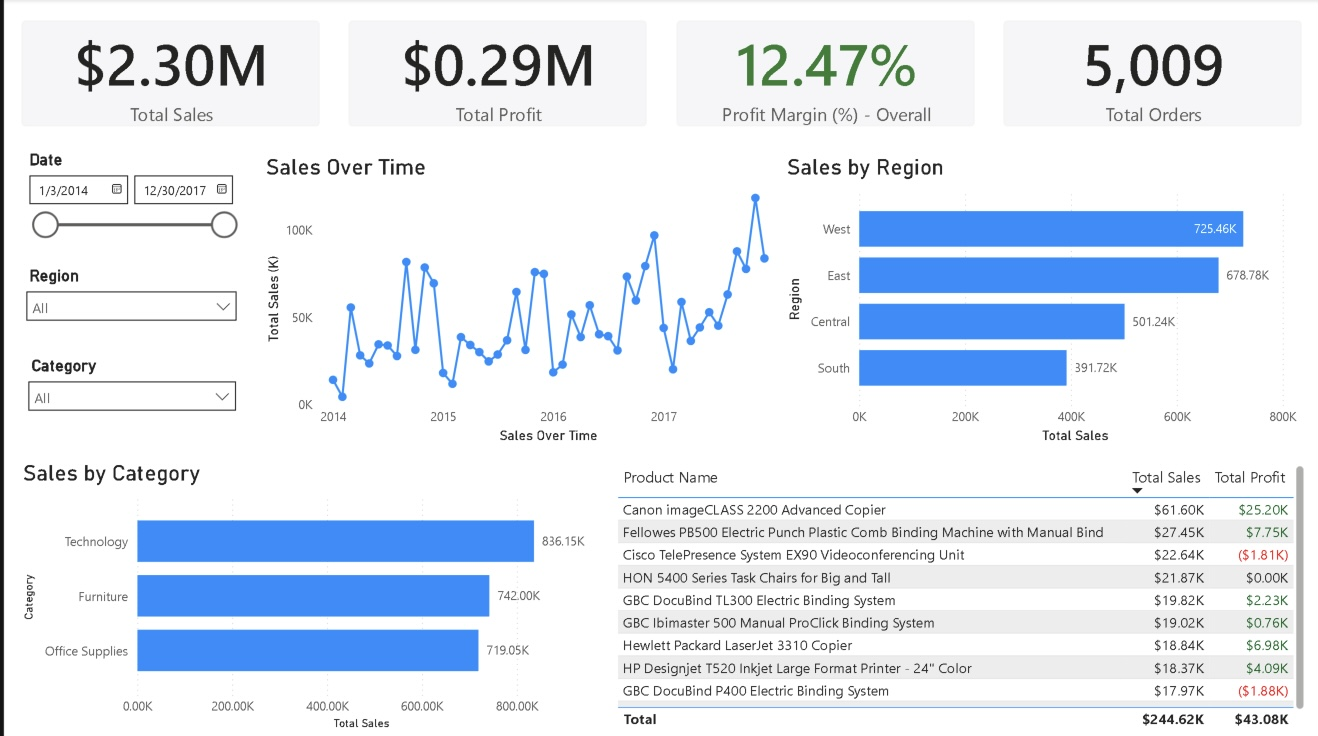

The dashboard page shown, as its layout file describes it:
{"tool":"powerbi","page":{"name":"Page 1","canvas":[1280,720],"ordinal":0},"visuals":[{"type":"cardVisual","fields":{"Data":["Sum(sales_cleaned.Sales)"]},"box":[0,3.5,324.8,137],"z":0,"group":"g1"},{"type":"lineChart","title":"Sales Over Time","fields":{"Y":["Sum(sales_cleaned.Sales)"],"Category":["sales_cleaned.Order Date.Variation.Date Hierarchy.Year","sales_cleaned.Order Date.Variation.Date Hierarchy.Month"]},"box":[249.8,150.9,506.6,285.8],"z":0},{"type":"cardVisual","fields":{"Data":["Sum(sales_cleaned.Profit)"]},"box":[318.5,3.5,324.8,137],"z":1000,"group":"g1"},{"type":"clusteredBarChart","title":"Sales by Category","fields":{"Category":["sales_cleaned.Category"],"Y":["Sum(sales_cleaned.Sales)"]},"box":[14,448.6,577.5,266.8],"z":1000},{"type":"cardVisual","fields":{"Data":["Count(sales_cleaned.Order ID)"]},"box":[955.4,3.5,324.8,137],"z":2000,"group":"g1"},{"type":"clusteredBarChart","title":"Sales by Region","fields":{"Category":["sales_cleaned.Region"],"Y":["Sum(sales_cleaned.Sales)"]},"box":[756.4,150.9,513.6,285.8],"z":2000},{"type":"tableEx","fields":{"Values":["sales_cleaned.Product Name","Sum(sales_cleaned.Sales)","Sum(sales_cleaned.Profit)"]},"box":[591.5,448.6,678.5,266.8],"z":3000},{"type":"group","id":"g1","title":"Group 1","box":[0,3.5,1280.3,137],"z":4000},{"type":"group","id":"g2","title":"Group 2","box":[12,142,224.6,287.4],"z":5000},{"type":"slicer","fields":{"Values":["sales_cleaned.Order Date"]},"box":[12,142,223.4,150.1],"z":7000,"group":"g2"},{"type":"slicer","fields":{"Values":["sales_cleaned.Category"]},"box":[14,342.2,221.8,87.2],"z":8000,"group":"g2"},{"type":"slicer","fields":{"Values":["sales_cleaned.Region"]},"box":[12,254.9,224.6,88.4],"z":9000,"group":"g2"},{"type":"cardVisual","fields":{"Data":["sales_cleaned.Profit Margin1"]},"box":[637,3.5,324.8,137],"z":10000,"group":"g1"}]}

Visuals, with their boxes in screenshot pixels (x1, y1, x2, y2), scaled from the page's 1280x720 canvas onto the 1318x736 screenshot:
cardVisual - Sum(sales_cleaned.Sales): 0,4,334,144
"Sales Over Time" lineChart: 257,154,779,446
cardVisual - Sum(sales_cleaned.Profit): 328,4,662,144
"Sales by Category" clusteredBarChart: 14,459,609,731
cardVisual - Count(sales_cleaned.Order ID): 984,4,1317,144
"Sales by Region" clusteredBarChart: 779,154,1308,446
tableEx - sales_cleaned.Product Name x Sum(sales_cleaned.Sales): 609,459,1308,731
"Group 1" group: 0,4,1317,144
"Group 2" group: 12,145,244,439
slicer - sales_cleaned.Order Date: 12,145,242,299
slicer - sales_cleaned.Category: 14,350,243,439
slicer - sales_cleaned.Region: 12,261,244,351
cardVisual - sales_cleaned.Profit Margin1: 656,4,990,144
